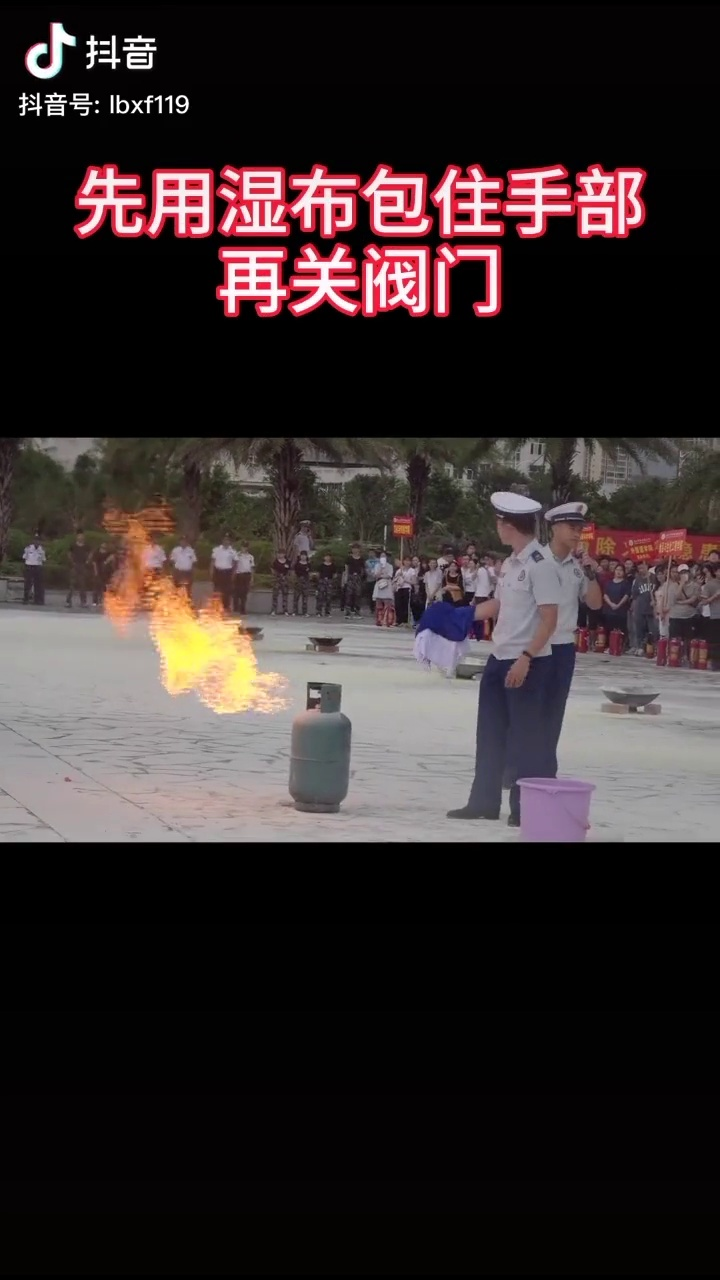fire: (96, 508, 276, 720)
